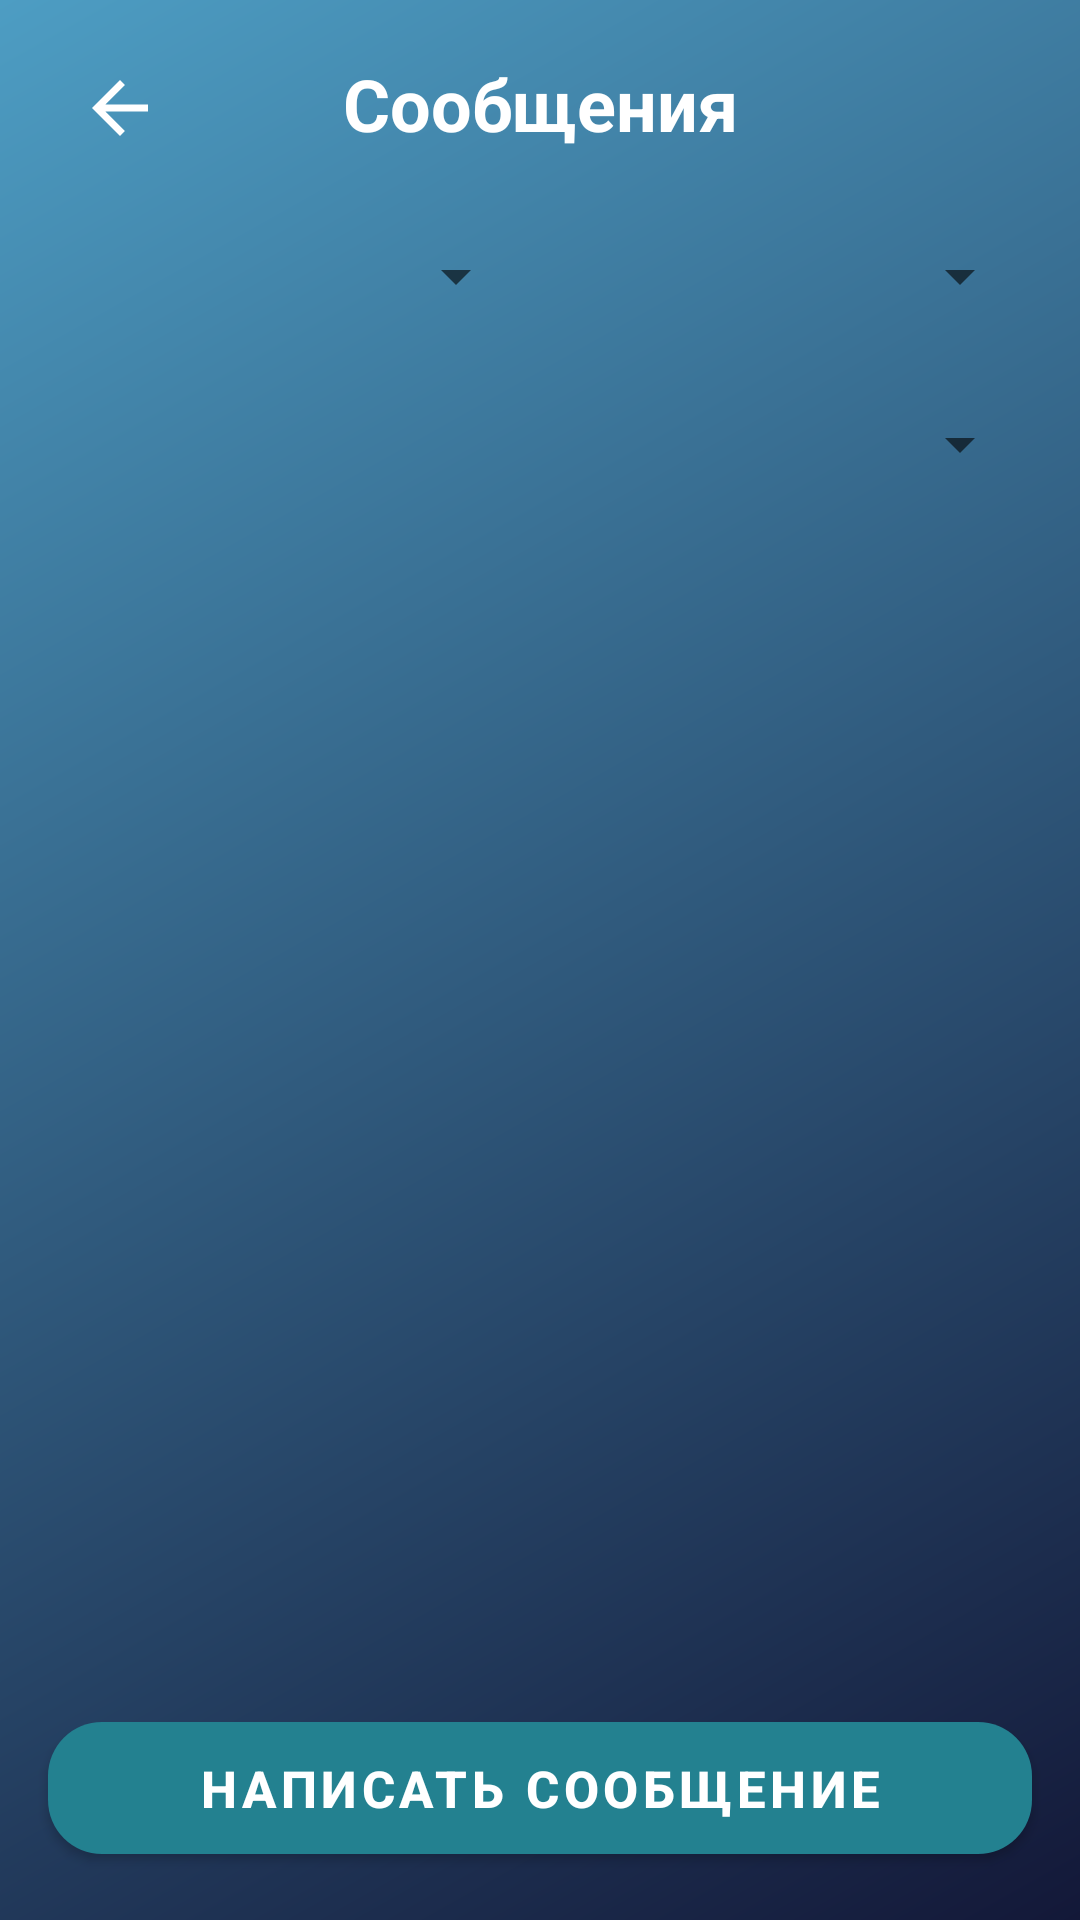

Named icons in this screenshot (1080 × 1920) and their centers, [x,y]:
Назад: [120,108]
